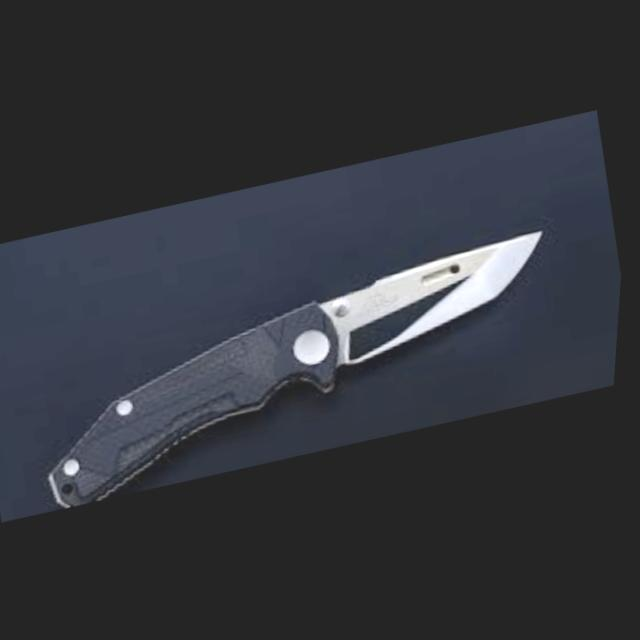Knife: (23, 227, 582, 510)
